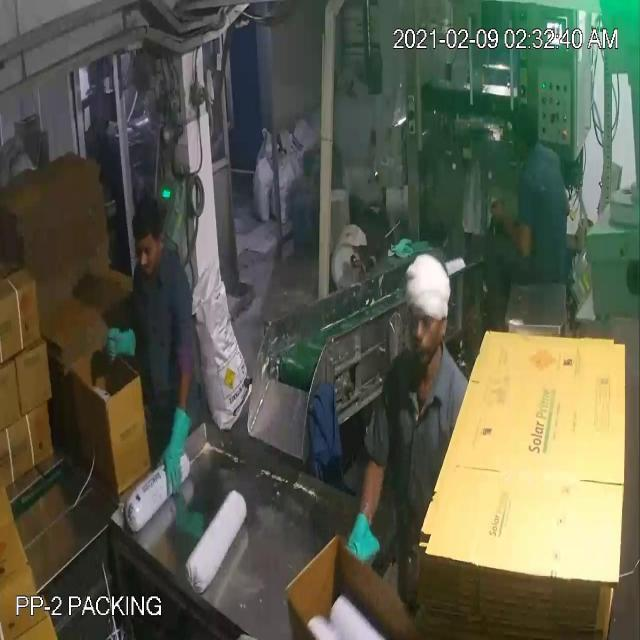Gloves: (48, 46, 510, 544)
